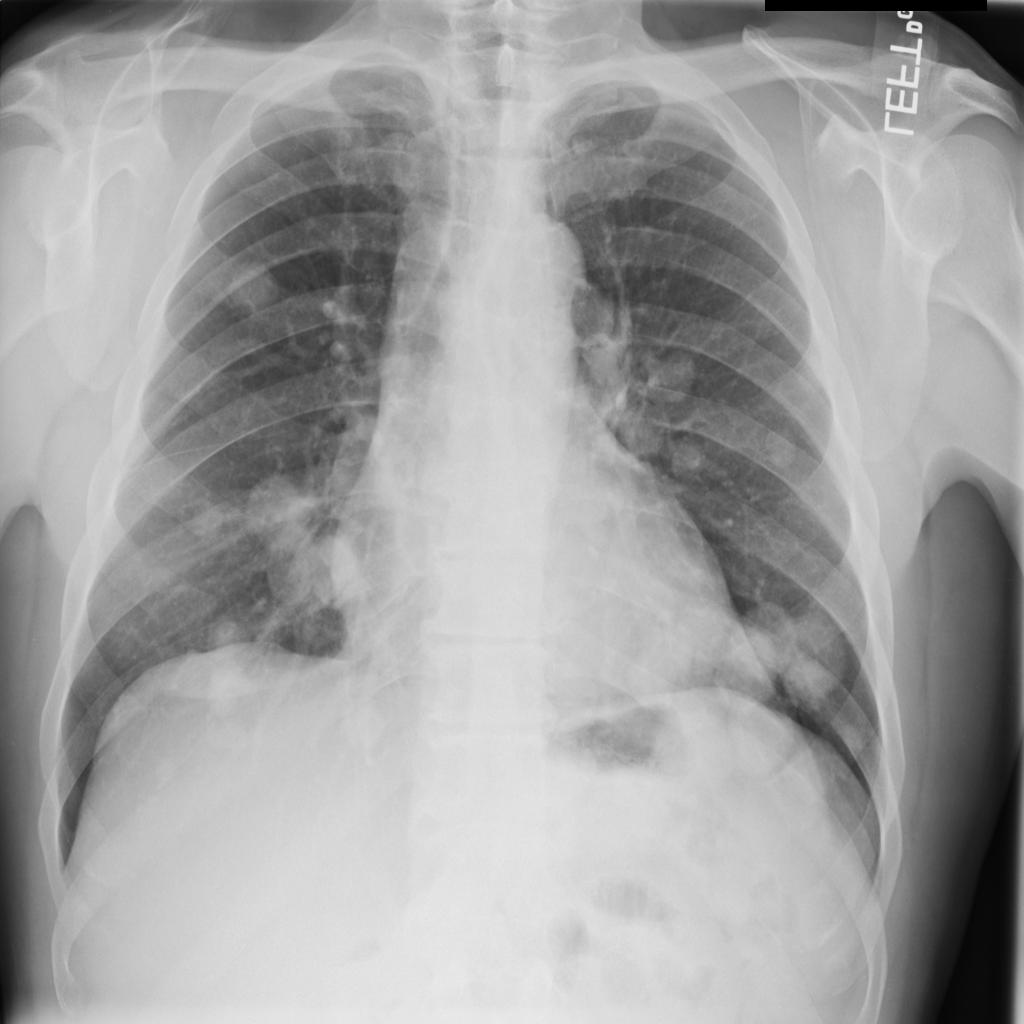nodule: (697, 597, 824, 732), (734, 586, 862, 711), (225, 459, 335, 573), (303, 521, 378, 610), (718, 605, 794, 687), (192, 644, 267, 724), (214, 247, 290, 322), (600, 397, 669, 476), (334, 682, 396, 765), (191, 600, 264, 670), (637, 334, 703, 410), (818, 706, 883, 780), (176, 482, 241, 554), (751, 409, 812, 484), (657, 422, 721, 490)
